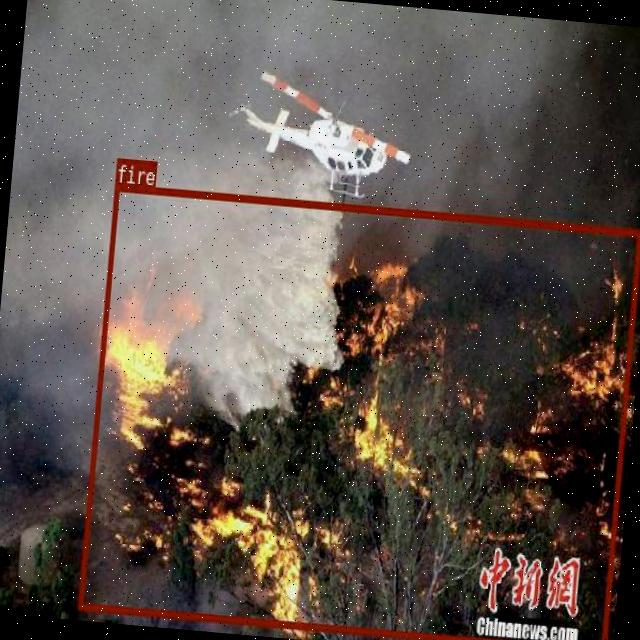fire: (77, 183, 640, 640)
